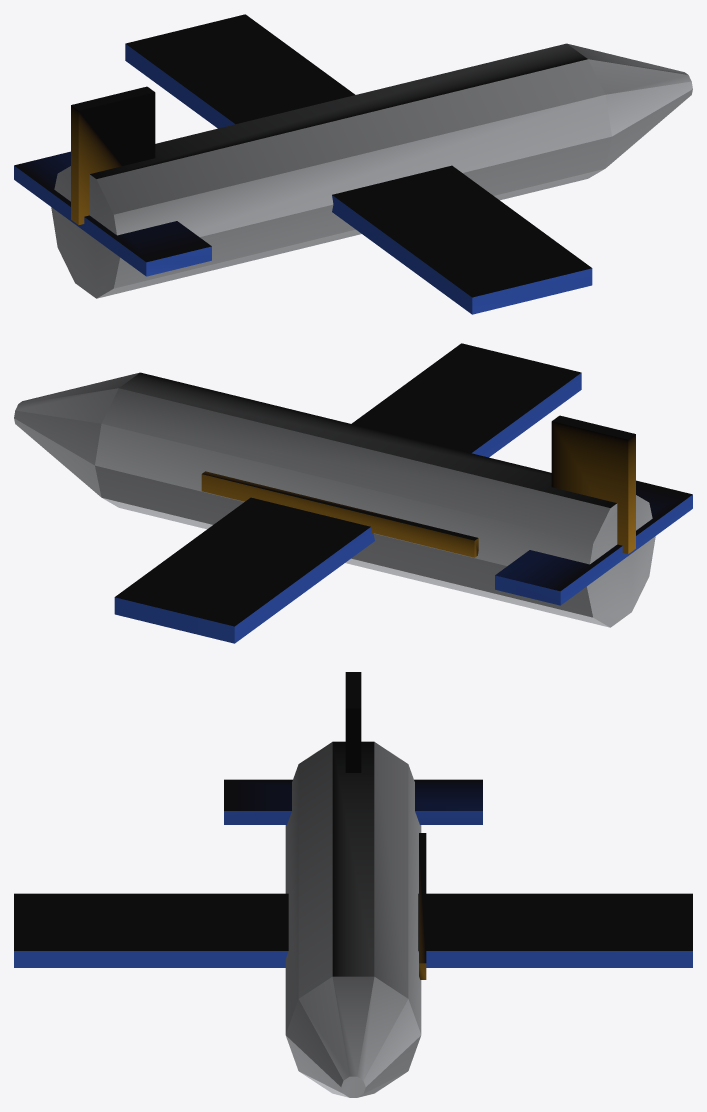
The picture shows the model from 3 angles, top to bottom: view 1: azimuth 30°, elevation 25°; view 2: azimuth 150°, elevation 25°; view 3: azimuth 270°, elevation 25°; orthographic projection. The views are drawn at different scales.
Parts seen in each view (by area): view 1: Cylinder.093, Cube.110, Cube.112, Cube.111, Cone.010; view 2: Cylinder.093, Cube.110, Cube.112, Cube.111, Cone.010, Cube.113; view 3: Cube.110, Cylinder.093, Cone.010, Cube.111, Cube.112, Cube.113.
Part boxes in pixels (x1=…): Cylinder.093: x1=51, y1=43, x2=611, y2=298; Cube.110: x1=125, y1=14, x2=592, y2=314; Cube.112: x1=71, y1=86, x2=155, y2=224; Cube.111: x1=14, y1=151, x2=211, y2=276; Cone.010: x1=567, y1=43, x2=692, y2=167; Cylinder.093: x1=95, y1=372, x2=655, y2=627; Cube.110: x1=114, y1=343, x2=581, y2=643; Cube.112: x1=551, y1=415, x2=635, y2=553; Cube.111: x1=495, y1=480, x2=692, y2=605; Cone.010: x1=14, y1=372, x2=139, y2=496; Cube.113: x1=201, y1=471, x2=478, y2=557; Cube.110: x1=14, y1=893, x2=692, y2=967; Cylinder.093: x1=285, y1=741, x2=421, y2=1033; Cone.010: x1=285, y1=976, x2=421, y2=1097; Cube.111: x1=224, y1=779, x2=482, y2=824; Cube.112: x1=345, y1=672, x2=361, y2=772; Cube.113: x1=419, y1=833, x2=426, y2=979.
Size of the model in its own units: 1.12 by 0.3246 by 1.1.
